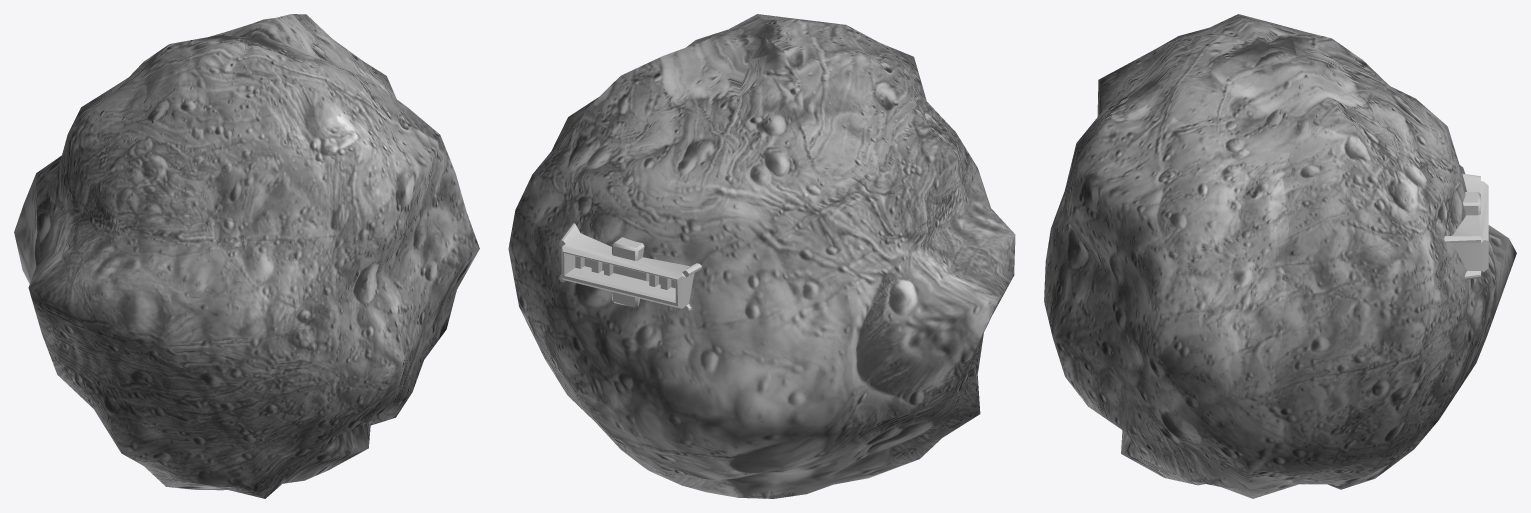
Rendered from Basa_AsteroidAngar.FBX.
The picture shows the model from 3 angles, left to right: view 1: azimuth 30°, elevation 25°; view 2: azimuth 150°, elevation 25°; view 3: azimuth 270°, elevation 25°; orthographic projection. The views are drawn at different scales.
Visible parts, largest first — view 1: Asteroid; view 2: Asteroid, Angar, Angar_vorota; view 3: Asteroid, Angar.
Part boxes in pixels (left/top/right/bottom): Asteroid: left=14, top=14, right=479, bottom=498; Asteroid: left=508, top=14, right=1015, bottom=498; Angar: left=559, top=223, right=701, bottom=312; Angar_vorota: left=575, top=256, right=675, bottom=289; Asteroid: left=1044, top=14, right=1516, bottom=498; Angar: left=1444, top=173, right=1488, bottom=279.
Size of the model in its own units: 815 by 777 by 759.
